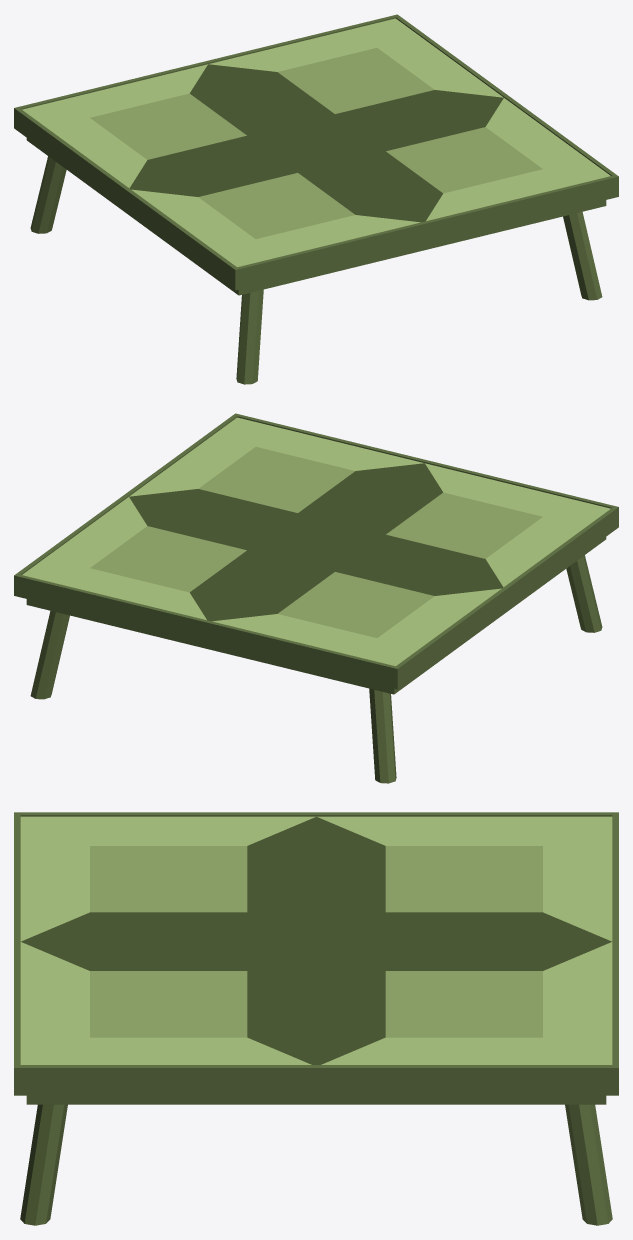
The model's file is Prop_Table_14.fbx.
3 renders of one model, top to bottom at view 1: azimuth 30°, elevation 25°; view 2: azimuth 150°, elevation 25°; view 3: azimuth 270°, elevation 25°, orthographic. The views are drawn at different scales.
Visible parts, largest first — view 1: Prop_Table_14; view 2: Prop_Table_14; view 3: Prop_Table_14.
Boxes of the visible parts, bbox=[...] form: Prop_Table_14: bbox=[14, 14, 618, 384]; Prop_Table_14: bbox=[14, 413, 618, 783]; Prop_Table_14: bbox=[14, 812, 618, 1225].
Bounding box in the file's own units: 200 × 60 × 200.
